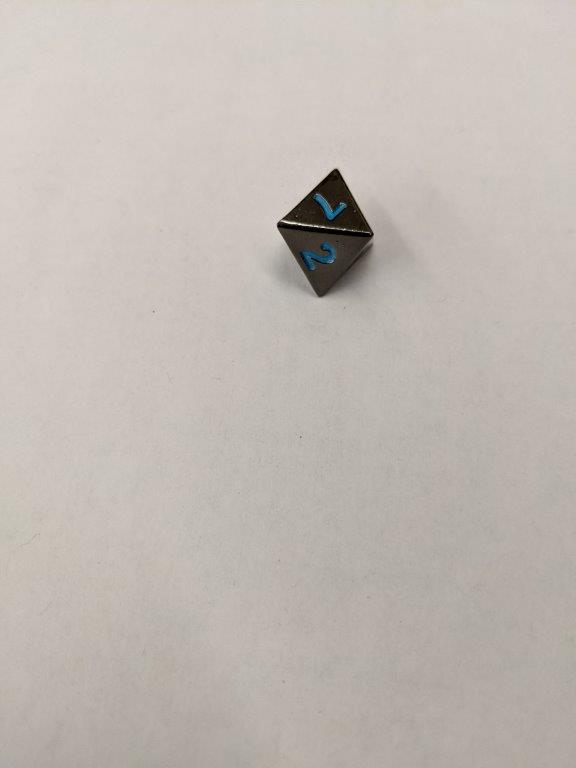d8-7: (275, 165, 374, 296)
